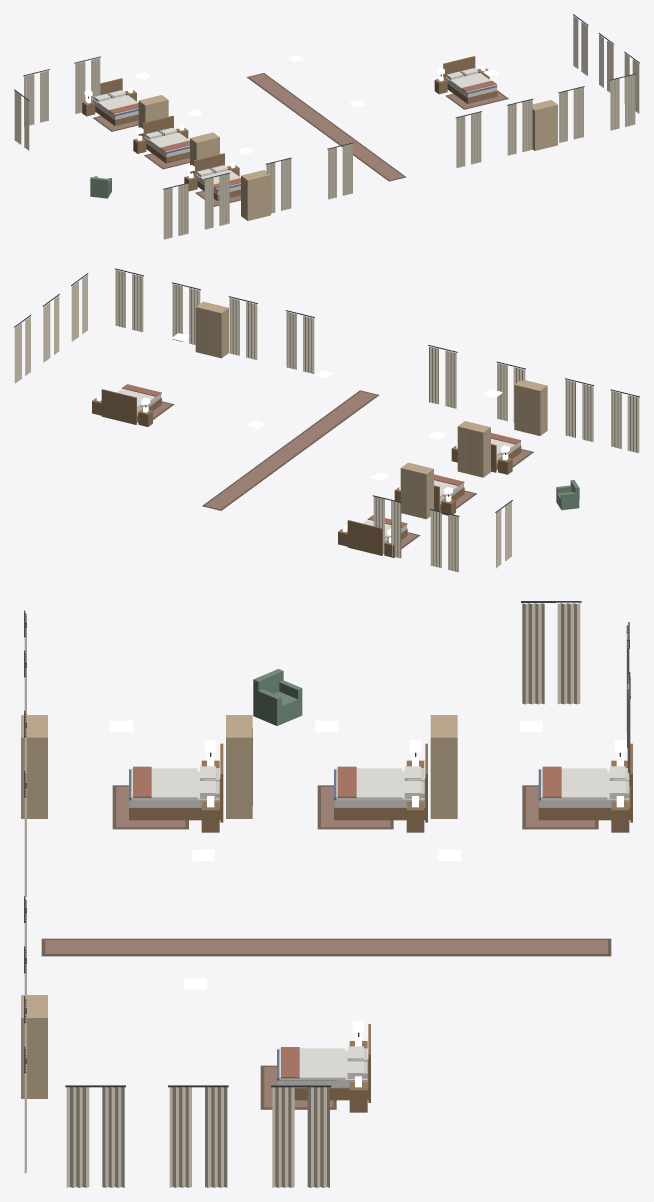
Rendered from fine-s2.glb.
3 renders of one model, top to bottom at view 1: azimuth 30°, elevation 25°; view 2: azimuth 150°, elevation 25°; view 3: azimuth 270°, elevation 25°, orthographic. The views are drawn at different scales.
Parts seen in each view (by area): view 1: soft-s2, dresser.007, dresser.004, bed-frame.004, bed-frame.006, bed-frame.005, bed-frame.007, dresser.005, dresser.006, lounge-chair.001; view 2: soft-s2, dresser.004, dresser.006, dresser.007, dresser.005, bed-frame.004, bed-frame.005, lounge-chair.001; view 3: soft-s2, dresser.005, dresser.006, dresser.004, dresser.007, lounge-chair.001, bed-frame.007, bed-frame.005, bed-frame.006, bed-frame.004.
Part boxes in pixels (x1,y1,x2,y2): soft-s2: (14,14,639,239); dresser.007: (241,170,270,220); dresser.004: (532,100,557,150); bed-frame.004: (443,56,497,103); bed-frame.006: (142,115,189,163); bed-frame.005: (93,78,138,125); bed-frame.007: (193,153,240,200); dresser.005: (138,95,168,135); dresser.006: (190,132,219,172); lounge-chair.001: (90,176,111,198); soft-s2: (14,268,639,572); dresser.004: (195,301,228,358); dresser.006: (457,421,490,477); dresser.007: (514,380,547,435); dresser.005: (400,462,433,519); bed-frame.004: (101,389,161,424); bed-frame.005: (347,520,407,555); lounge-chair.001: (556,480,579,510); soft-s2: (24,601,630,1187); dresser.005: (430,715,457,818); dresser.006: (226,715,252,818); dresser.004: (21,995,47,1098); dresser.007: (21,715,47,818); lounge-chair.001: (253,669,302,725); bed-frame.007: (129,743,223,822); bed-frame.005: (538,743,632,822); bed-frame.006: (334,743,427,822); bed-frame.004: (277,1024,370,1102).
Size of the model in its own units: 25.6 by 2.56 by 13.65.
